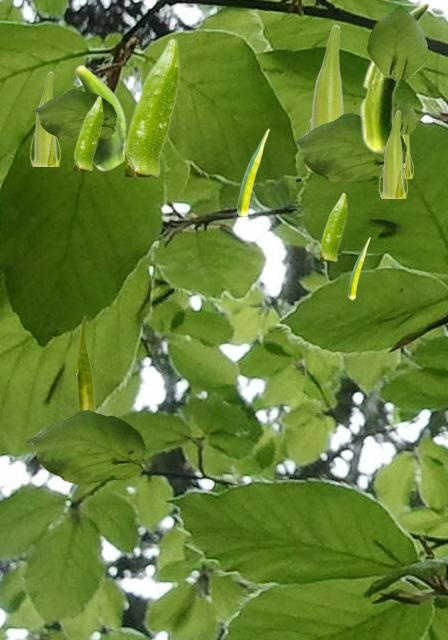okra: (359, 2, 429, 153), (125, 37, 179, 175), (74, 64, 126, 170), (305, 24, 343, 169), (29, 71, 59, 165), (237, 128, 268, 215), (378, 110, 406, 197), (74, 95, 102, 169), (320, 192, 346, 260), (76, 315, 94, 410), (348, 237, 369, 299), (401, 134, 412, 177)
